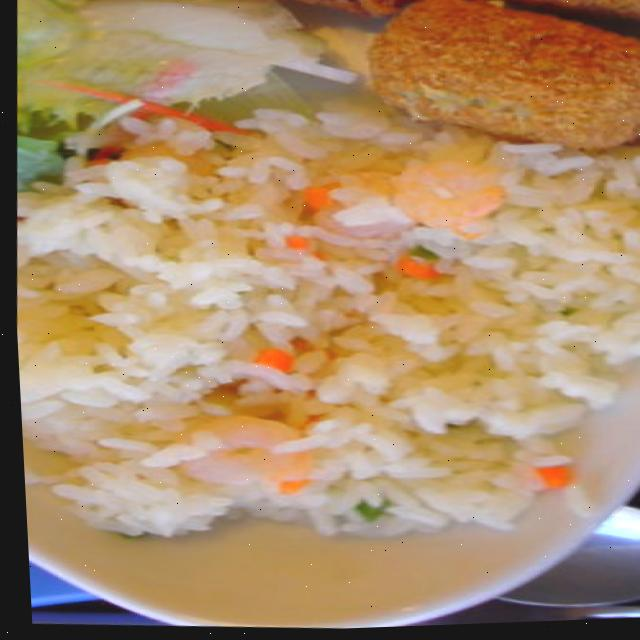米饭主食: (5, 96, 640, 565)
